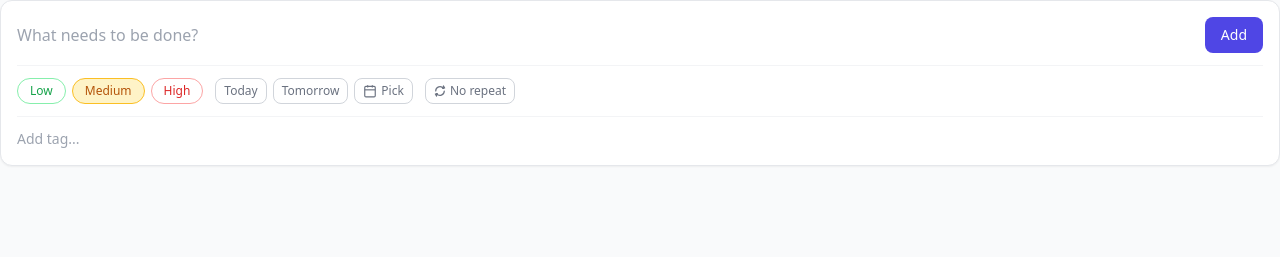
TaskInput — repeat chip label › shows abbreviated days when Custom + days chosen
Click the button with aria-label "set repeat schedule".
click(470, 91)  # box [425,78,515,104]
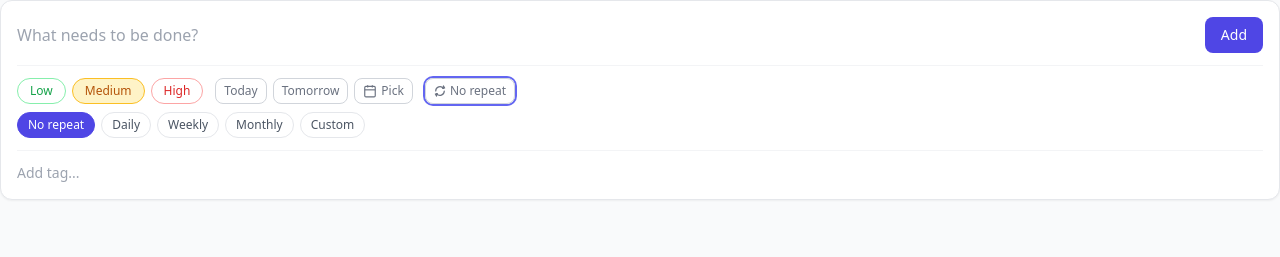
Click the button "Custom".
click(332, 125)  # box [300,112,365,138]
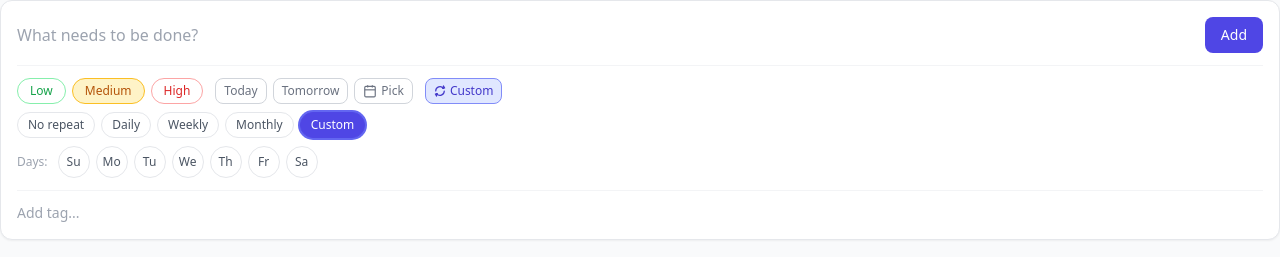
Click the button with aria-label "monday".
click(112, 162)  # box [96,146,128,178]
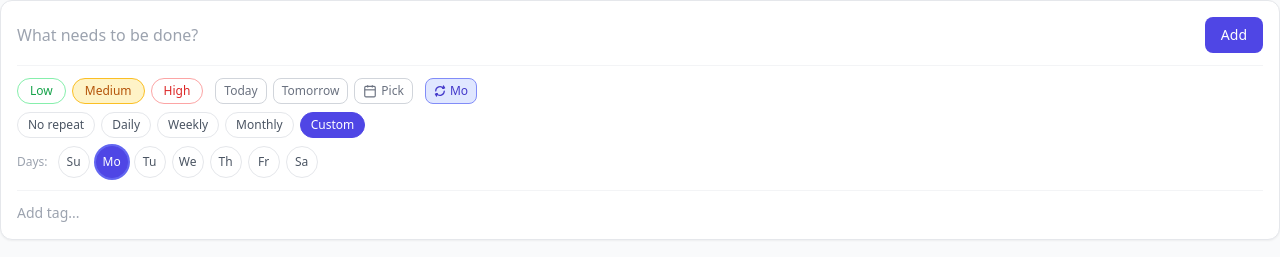
Click the button with aria-label "wednesday".
click(188, 162)  # box [172,146,204,178]
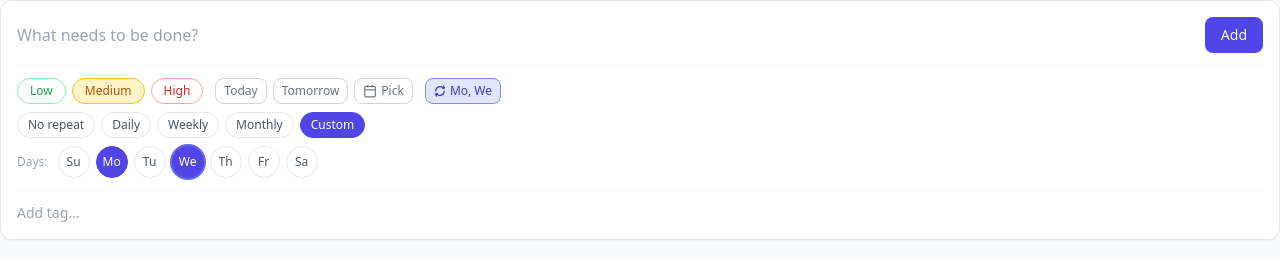
Expected: the button with aria-label "set repeat schedule" reads "Mo, We", [425,78,501,104]
